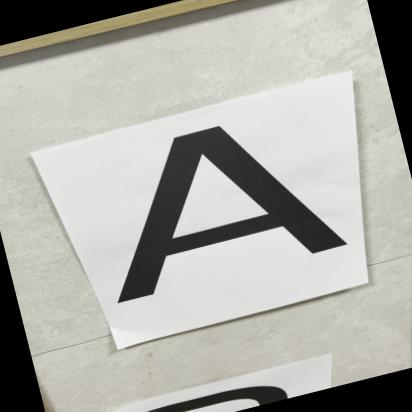seat: (60, 93, 366, 322)
